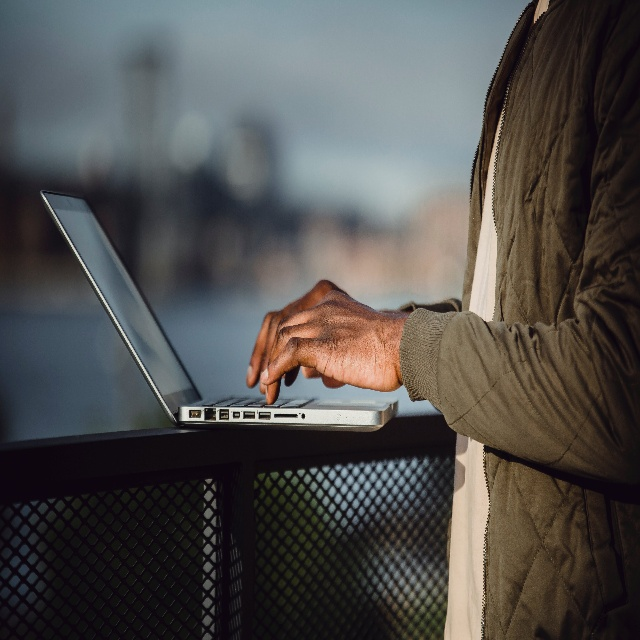Sin_guantes: (260, 291, 401, 392), (245, 274, 333, 404)
